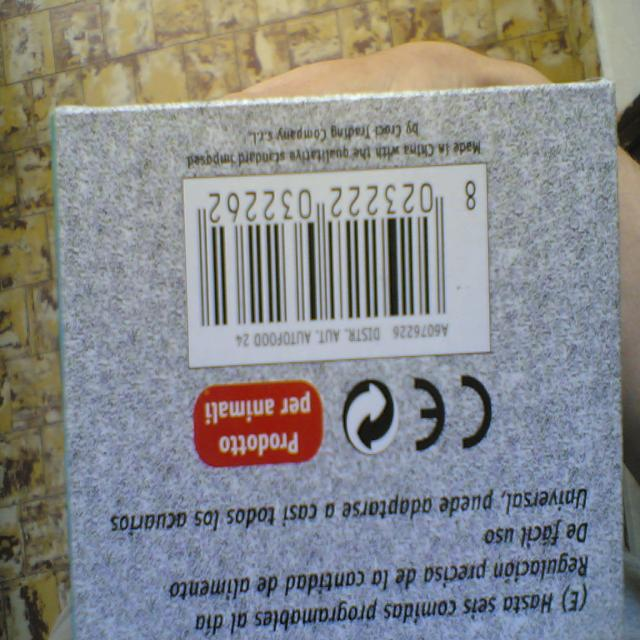barcode: (184, 163, 490, 367)
